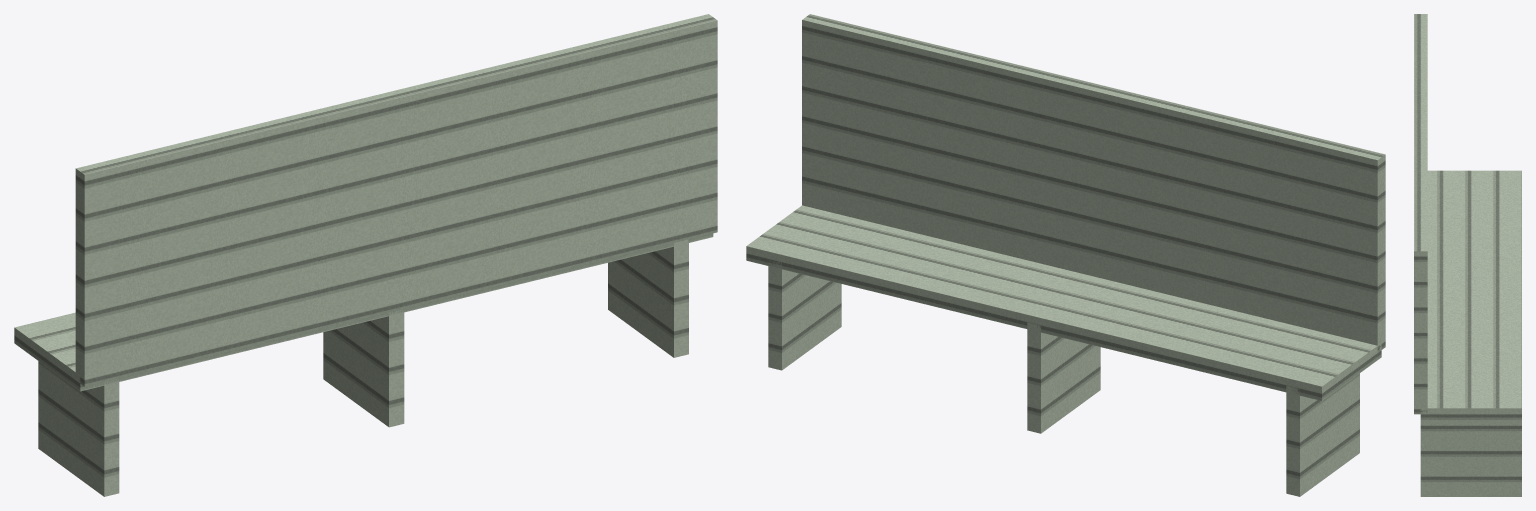
The model's file is church_pew.glb.
3 views of the same model, side by side, from view 1: azimuth 30°, elevation 25°; view 2: azimuth 150°, elevation 25°; view 3: azimuth 270°, elevation 25° (orthographic). The views are drawn at different scales.
Visible parts, largest first — view 1: church_pew-col; view 2: church_pew-col; view 3: church_pew-col.
Part boxes in pixels (x1,y1,x2,y2): church_pew-col: (14,14,717,496); church_pew-col: (746,14,1385,496); church_pew-col: (1414,14,1521,496).
Size of the model in its own units: 2.5 by 1.25 by 0.48.
1 material, 1 textured.
